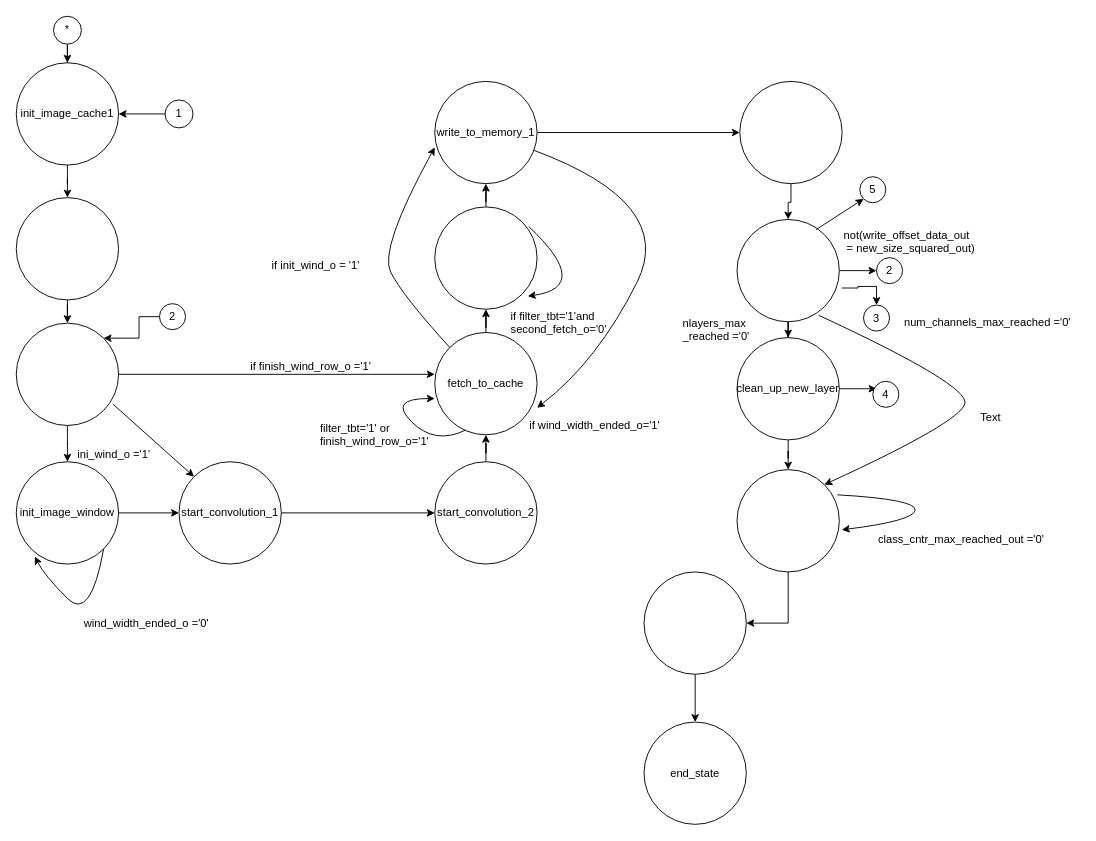
This 1096x841 diagram has some shape labels left out. The centre of each missing label's shape, as x and y in pixels:
"argmax_ computation" goes at point 787,520.
"clean_up" goes at point 787,270.
"fetch_to_img_wind" goes at point 485,257.
"init_image_cache2" goes at point 67,248.
"preini_img_window" goes at point 67,373.
"write_classification" goes at point 694,622.
"write_to_memory_2" goes at point 790,132.
